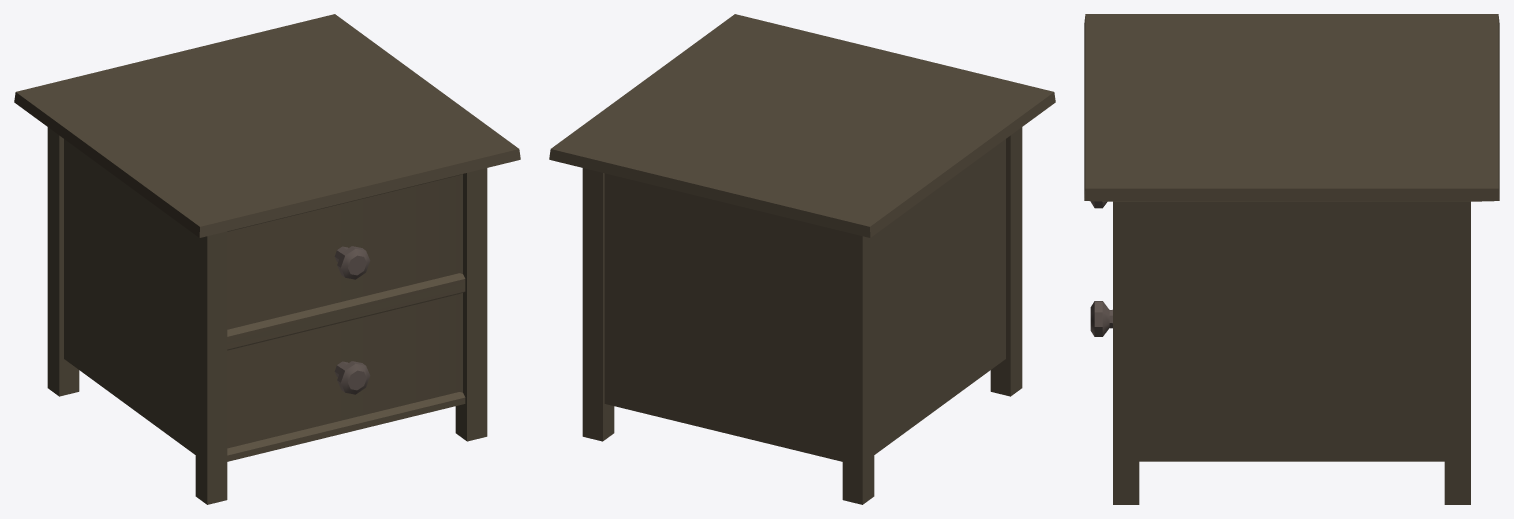
Rendered from NightStand_3.gltf.
3 renders of one model, left to right at view 1: azimuth 30°, elevation 25°; view 2: azimuth 150°, elevation 25°; view 3: azimuth 270°, elevation 25°, orthographic. The views are drawn at different scales.
Visible parts, largest first — view 1: NightStand_3; view 2: NightStand_3; view 3: NightStand_3.
Boxes of the visible parts, x1,y1,x2,y2 form: NightStand_3: [14, 14, 520, 504]; NightStand_3: [549, 14, 1055, 504]; NightStand_3: [1084, 14, 1499, 504].
Size of the model in its own units: 0.9522 by 0.8271 by 0.9522.
